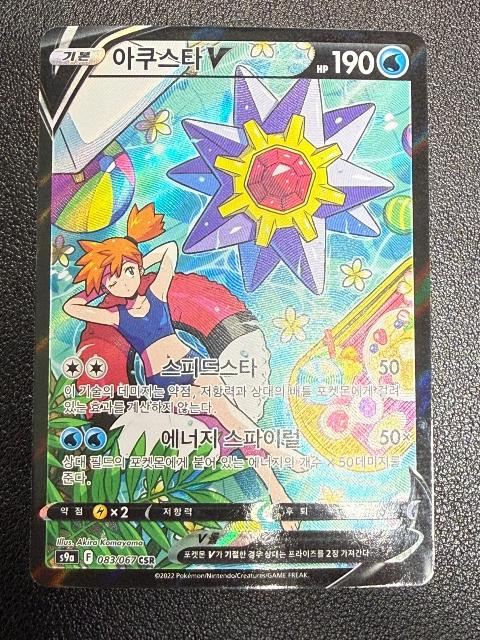Card: (27, 21, 441, 596)
Name: (105, 41, 240, 78)
